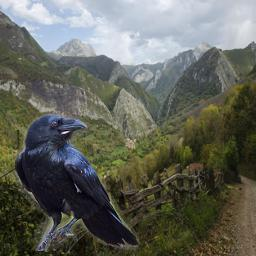Crow: (14, 113, 142, 251)
